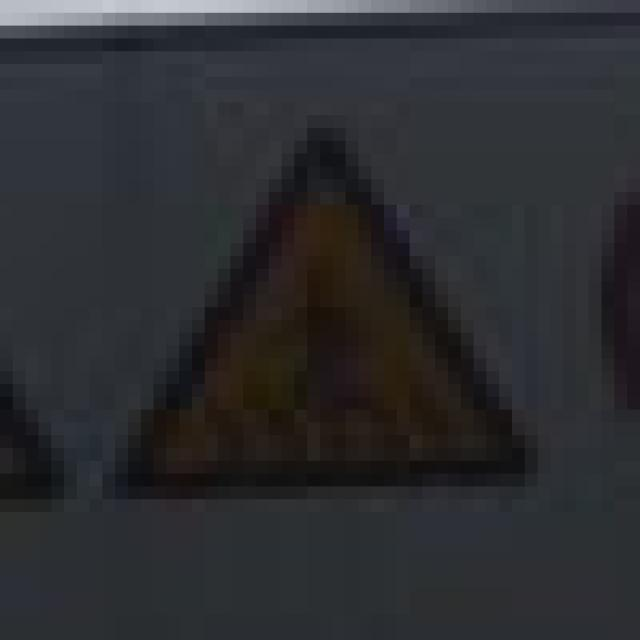PEDESTRIAN_CROSSING: (90, 102, 538, 486)
